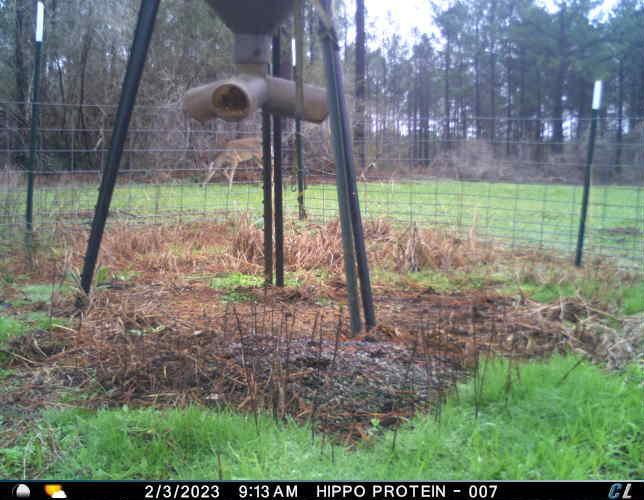Deer: (199, 135, 266, 191)
